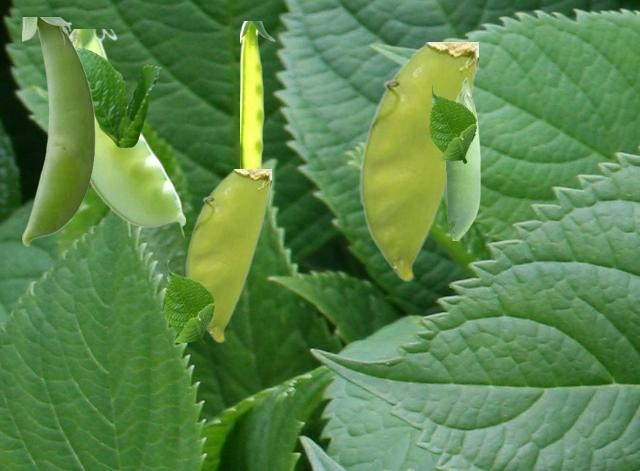pea: (359, 42, 477, 280), (70, 29, 184, 238), (22, 17, 94, 245), (185, 169, 270, 341), (445, 77, 479, 239), (240, 21, 274, 168)
